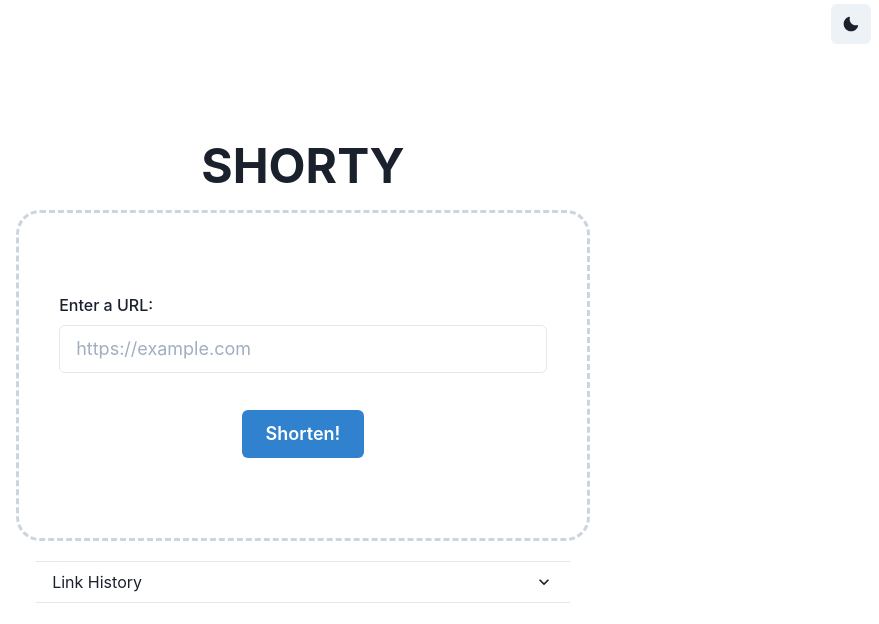
Test: App › should show an error if the url is invalid
The width and height of the screenshot is (879, 624).
Type "example.com" into the field labelled "Enter a URL:". click: (303, 349)
box: [59, 325, 547, 373]
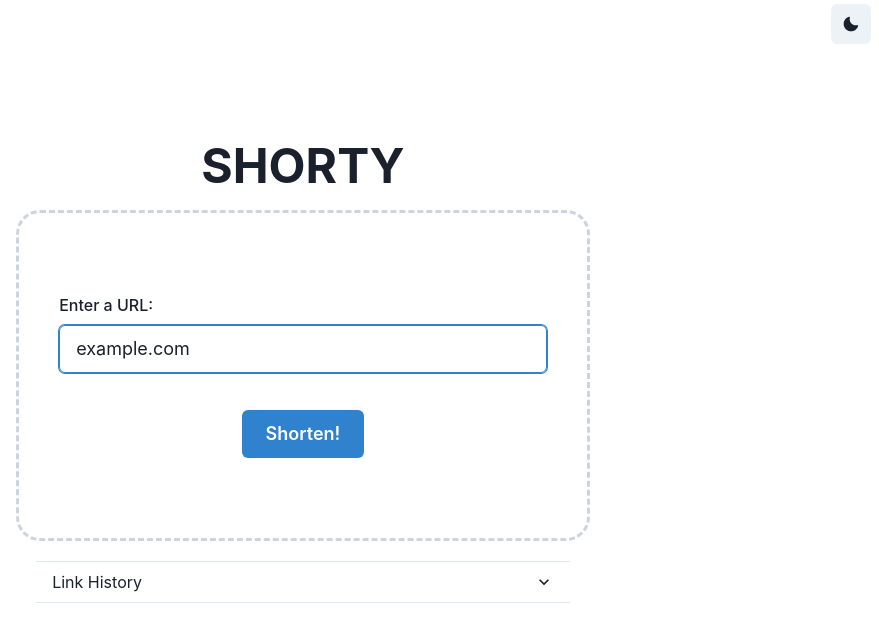
Click the button "Shorten!". click: (304, 434)
box: [242, 410, 365, 458]
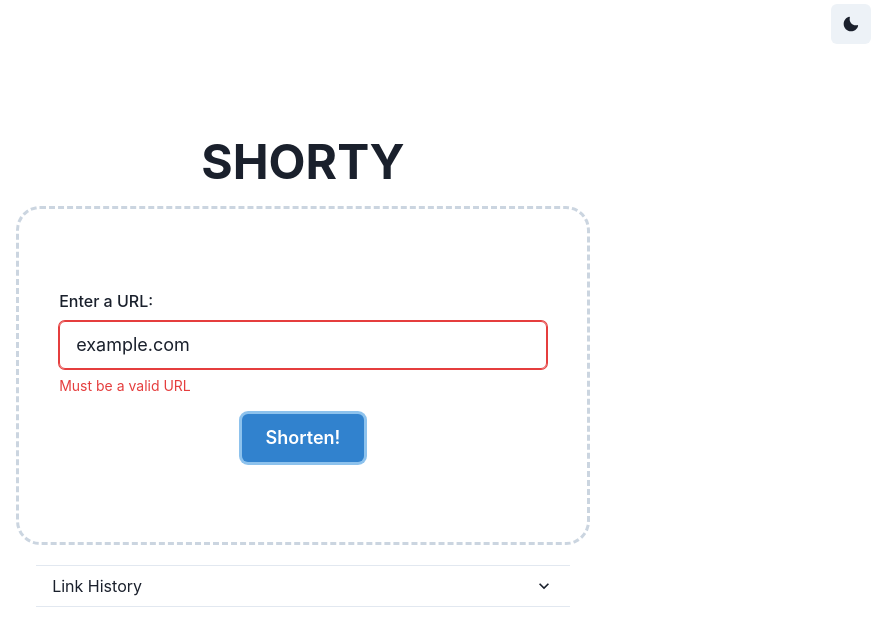
Expected: the text "Must be a valid URL" is shown, [59, 376, 191, 394]
